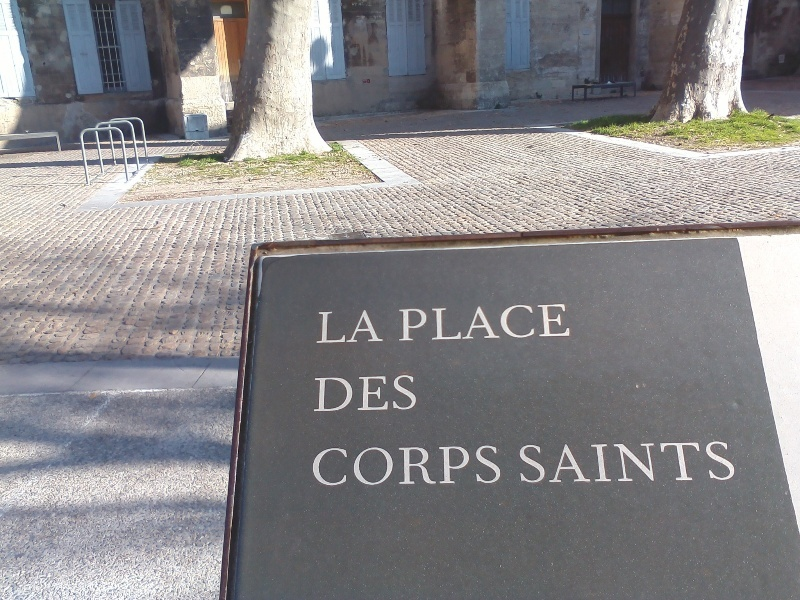text: (529, 439, 544, 485), (545, 439, 560, 485), (561, 439, 576, 485), (577, 439, 592, 485), (593, 439, 608, 485), (609, 439, 624, 485), (625, 439, 640, 485), (641, 439, 656, 485), (657, 439, 672, 485), (673, 439, 688, 485), (689, 439, 704, 485), (705, 439, 720, 485), (721, 439, 736, 485), (321, 445, 336, 487), (337, 445, 352, 487), (353, 445, 368, 487), (369, 445, 384, 487), (385, 445, 400, 487), (401, 445, 416, 487), (417, 445, 432, 487), (433, 445, 448, 487), (449, 445, 464, 487), (465, 445, 480, 487), (481, 445, 496, 487), (321, 375, 336, 414), (337, 375, 352, 414), (353, 375, 368, 414), (369, 375, 384, 414), (385, 375, 400, 414), (401, 375, 416, 414), (321, 307, 336, 345), (337, 307, 352, 345), (353, 307, 368, 345), (369, 307, 384, 345), (401, 304, 416, 342), (417, 304, 432, 342), (433, 304, 448, 342), (449, 304, 464, 342), (465, 304, 480, 342), (481, 304, 496, 342), (497, 304, 512, 342), (513, 304, 528, 342), (529, 304, 544, 342), (545, 304, 560, 342), (518, 439, 528, 485), (561, 304, 572, 342), (311, 445, 320, 487), (497, 445, 506, 487), (313, 375, 320, 414), (417, 375, 424, 414), (396, 304, 400, 342), (737, 439, 740, 485), (317, 307, 320, 345), (385, 307, 386, 345)
